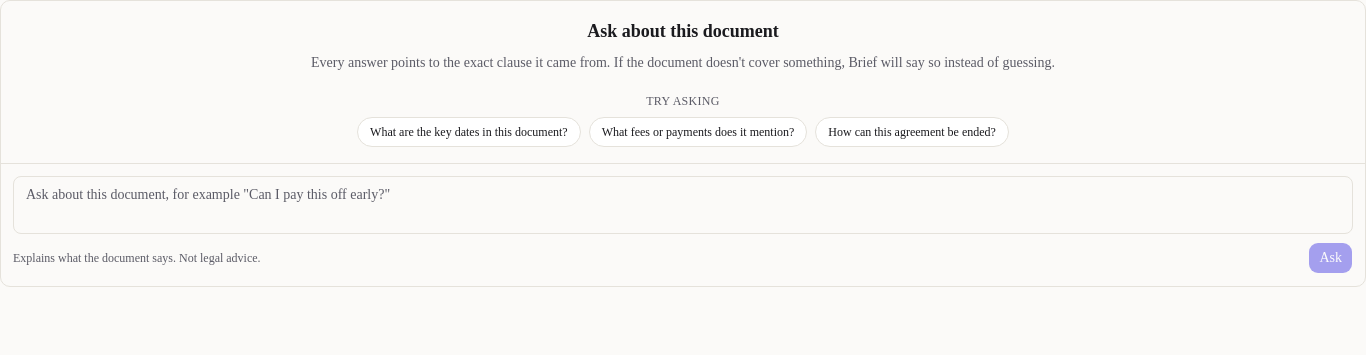
ChatPanel › shows the answer with its quoted citation and page
Type "Can I pay early?" into the text box named "Your question".
click(683, 205); type("Can I pay early?")  # box [13,176,1353,234]
Then press Enter
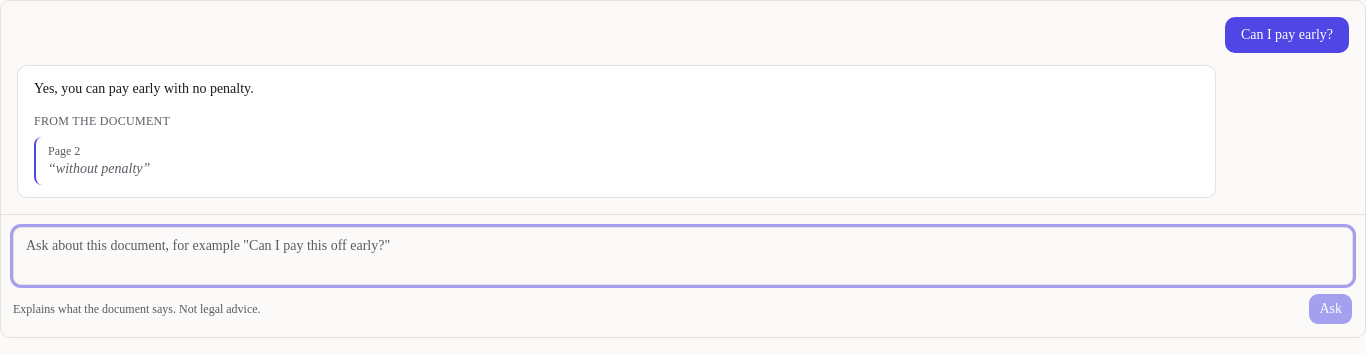
Expected: the text "Yes, you can pay early with no penalty." is shown, [34,81,254,96]
Expected: the text "From the document" is shown, [34,114,170,128]
Expected: the text "Page 2" is shown, [48,144,80,158]
